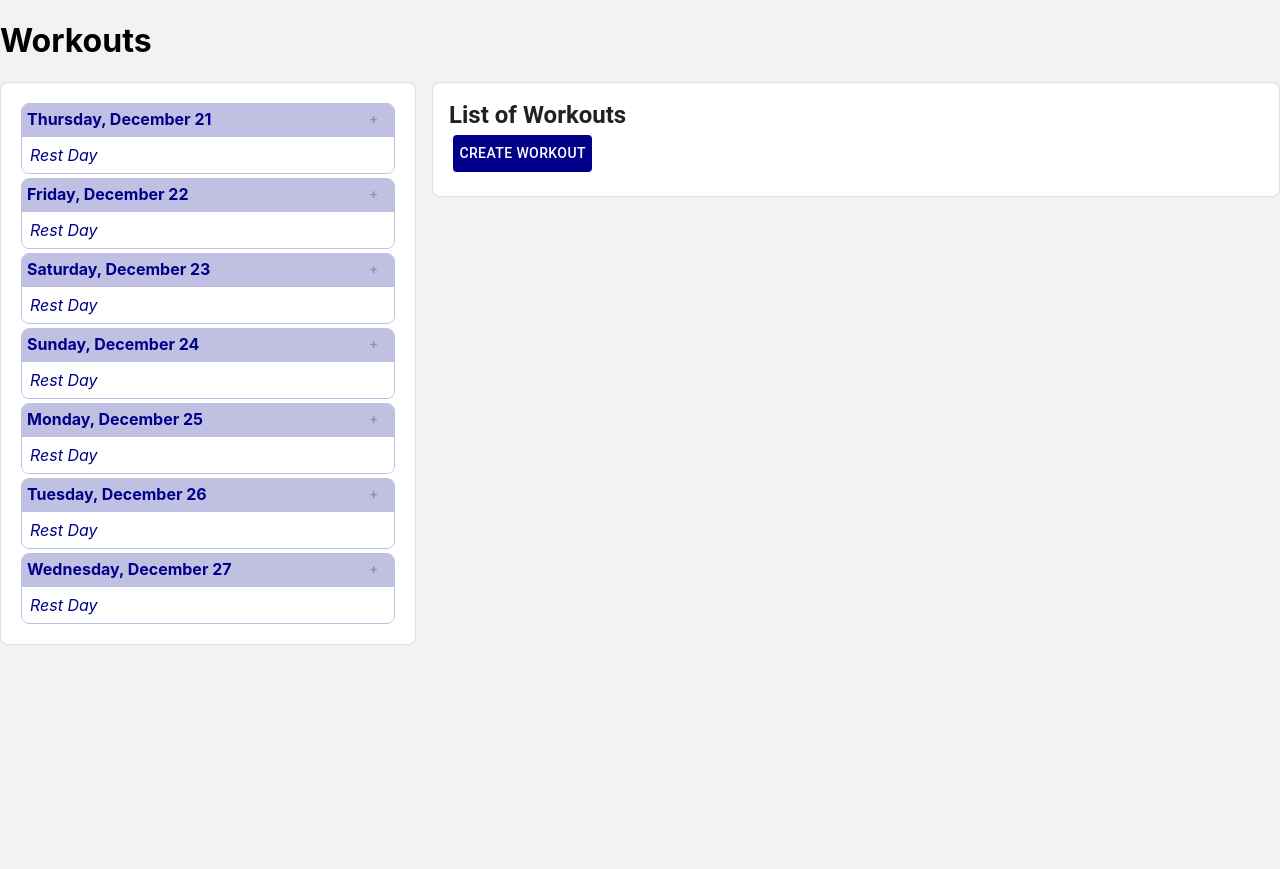
it: Client can create a personalized workout plan
The image size is (1280, 869).
Click the button titled "createWorkoutBtn" at (523, 154), box [453,135,592,172]
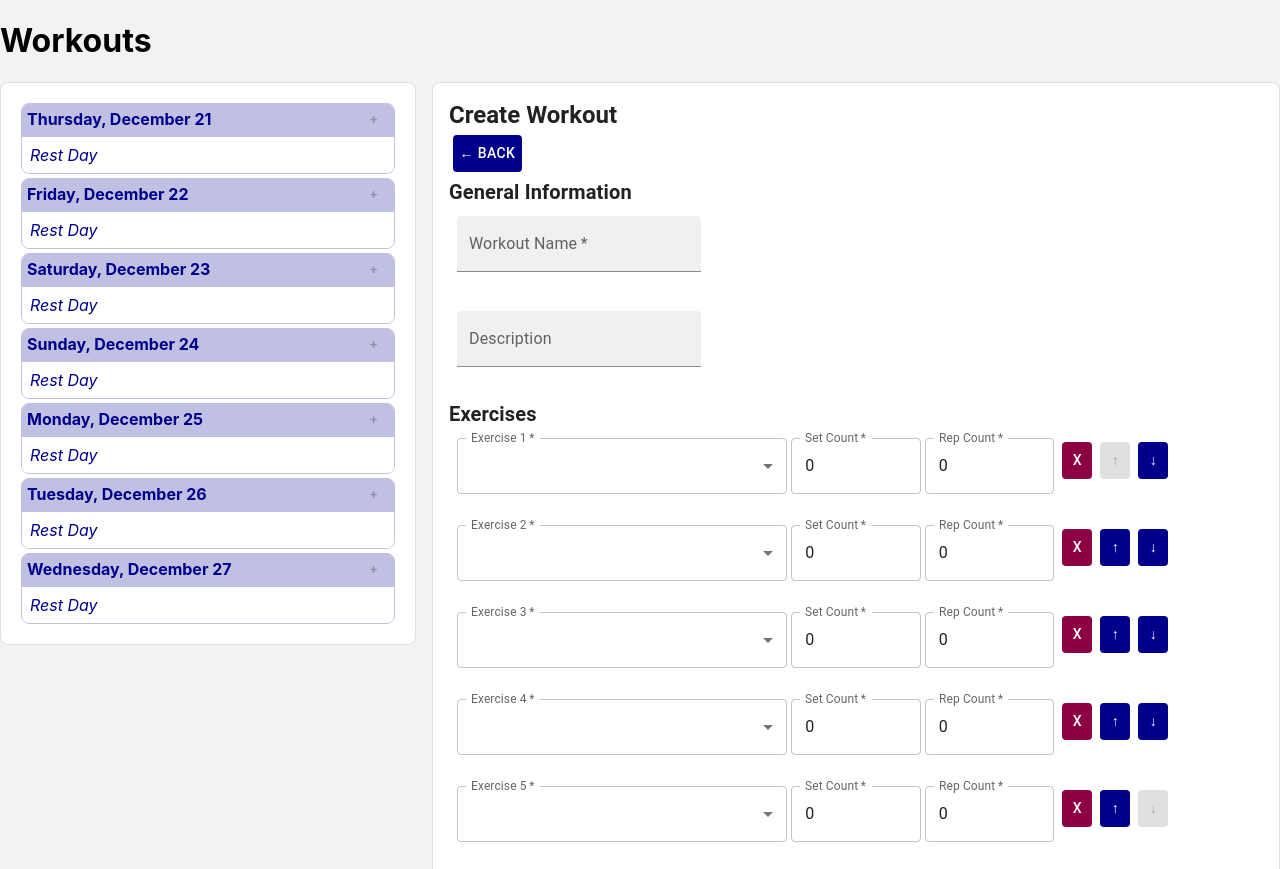
Expected: the text "Workout Name" is shown, [469,234,577,253]
Expected: the text "Set Count" in the row of "Exercise 1" is shown, [805,430,858,445]
Expected: the text "Description" is shown, [469,327,552,350]
